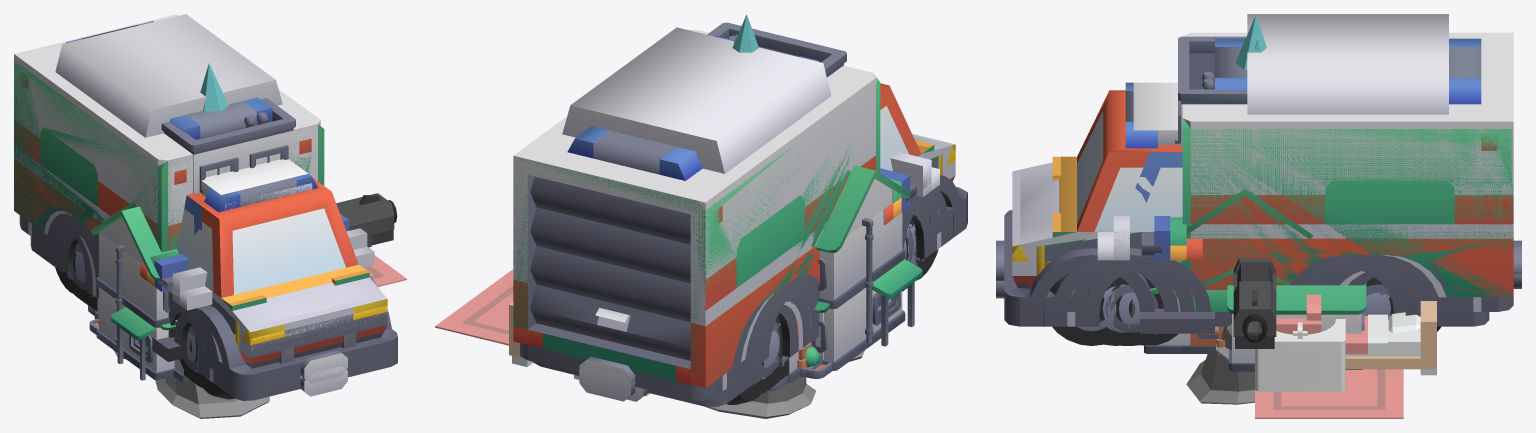
File: kit.glb
3 renders of one model, left to right at view 1: azimuth 30°, elevation 25°; view 2: azimuth 150°, elevation 25°; view 3: azimuth 270°, elevation 25°, orthographic. The views are drawn at different scales.
Visible parts, largest first — view 1: body (×11), building-type-n, building-f, Armor_Metal2, Pistol_5, tree_pineTallD, rugRectangle(Clone), grill, building-type-t; view 2: body (×7), door, building-type-n, rugRectangle(Clone), Armor_Metal2, building-f, wheel-back-right, tree_pineTallD, building-type-t; view 3: body (×11), rugRectangle(Clone), bathtub(Clone), building-type-n, Pistol_5, building-f, wheel-front-left (×4), Armor_Metal2, Mesh bedSingle, Mesh bedDouble, cover (×2), building-type-t (+4 smaller).
Boxes of the visible parts, x1,y1,x2,y2 form: body (×11): [14, 14, 397, 400]; building-type-n: [89, 206, 178, 380]; building-f: [161, 98, 295, 193]; Armor_Metal2: [113, 350, 269, 418]; Pistol_5: [336, 193, 397, 247]; tree_pineTallD: [200, 63, 228, 111]; rugRectangle(Clone): [363, 255, 406, 286]; grill: [279, 333, 356, 378]; building-type-t: [88, 203, 190, 382]; body (×7): [513, 27, 967, 406]; door: [530, 176, 690, 360]; building-type-n: [804, 165, 922, 378]; rugRectangle(Clone): [435, 269, 513, 345]; Armor_Metal2: [704, 350, 864, 418]; building-f: [707, 22, 846, 77]; wheel-back-right: [748, 317, 783, 394]; tree_pineTallD: [732, 14, 758, 52]; building-type-t: [767, 170, 850, 390]; body (×11): [996, 14, 1521, 333]; rugRectangle(Clone): [1255, 369, 1403, 418]; bathtub(Clone): [1255, 319, 1345, 391]; building-type-n: [1227, 283, 1366, 371]; Pistol_5: [1233, 258, 1276, 348]; building-f: [1175, 36, 1247, 148]; wheel-front-left (×4): [1050, 276, 1177, 345]; Armor_Metal2: [1186, 324, 1254, 404]; Mesh bedSingle: [1345, 301, 1436, 369]; Mesh bedDouble: [1345, 301, 1436, 375]; cover (×2): [1345, 314, 1387, 354]; building-type-t: [1144, 189, 1311, 353].
Bounding box in the file's own units: 2.46 × 2.54 × 3.25.
29 materials, 6 textured.
